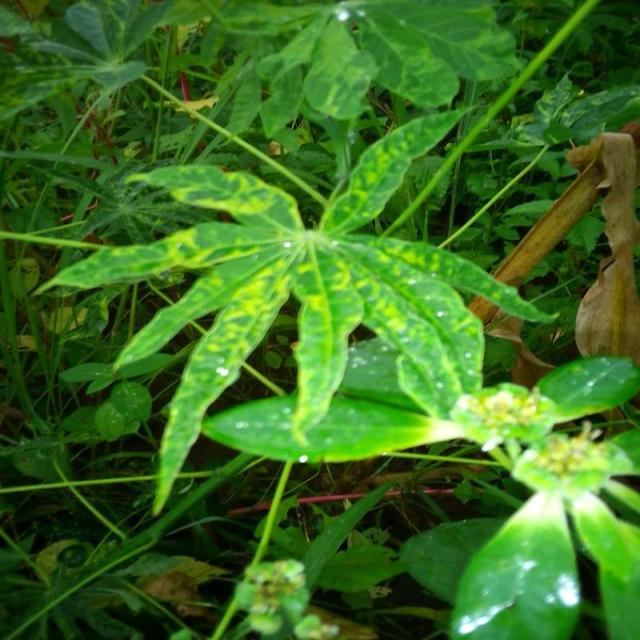cassava leaf: (35, 104, 562, 515)
